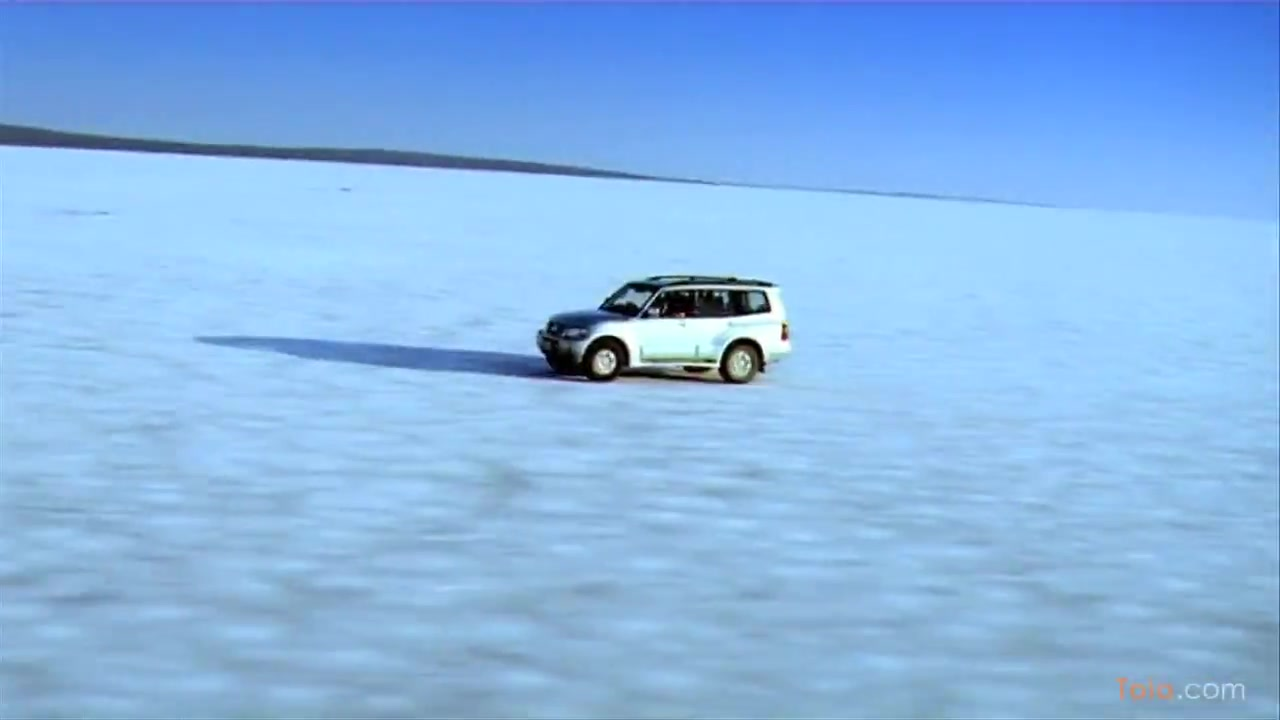car: (536, 276, 795, 384)
